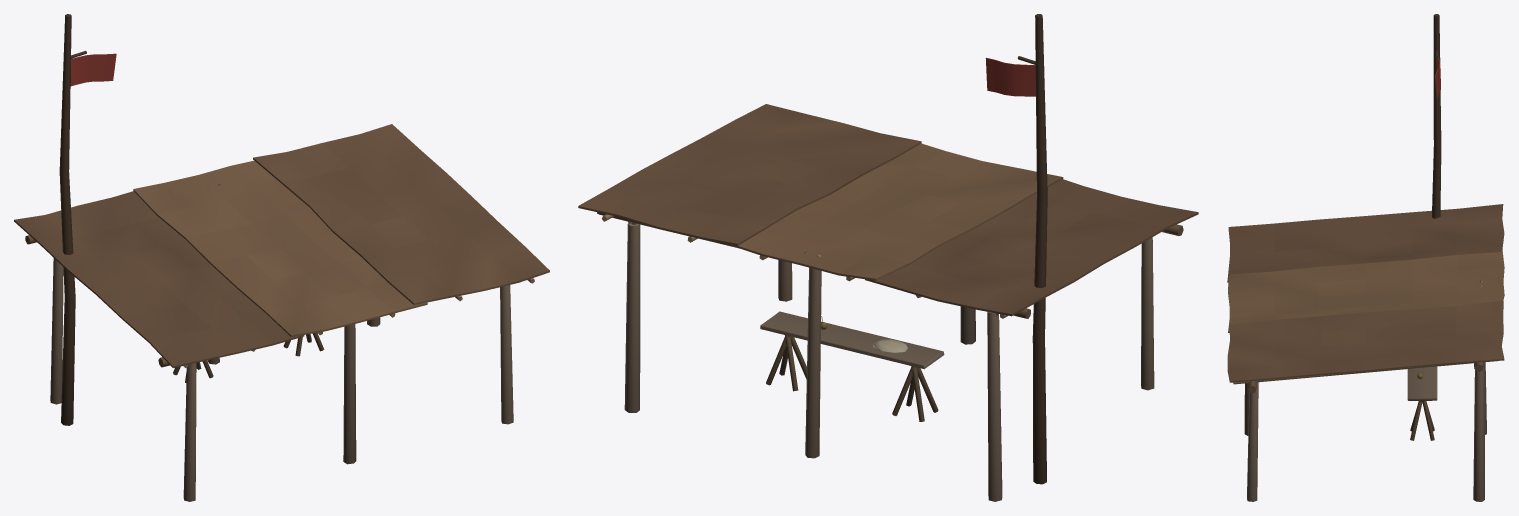
File: posta.glb
The picture shows the model from 3 angles, left to right: view 1: azimuth 30°, elevation 25°; view 2: azimuth 150°, elevation 25°; view 3: azimuth 270°, elevation 25°; orthographic projection. The views are drawn at different scales.
Parts seen in each view (by area): view 1: Posta; view 2: Posta; view 3: Posta.
Boxes of the visible parts, left/top/right/bottom form: Posta: left=14, top=14, right=549, bottom=501; Posta: left=578, top=14, right=1198, bottom=501; Posta: left=1227, top=14, right=1504, bottom=501.
Size of the model in its own units: 7.92 by 8.1 by 5.86.
